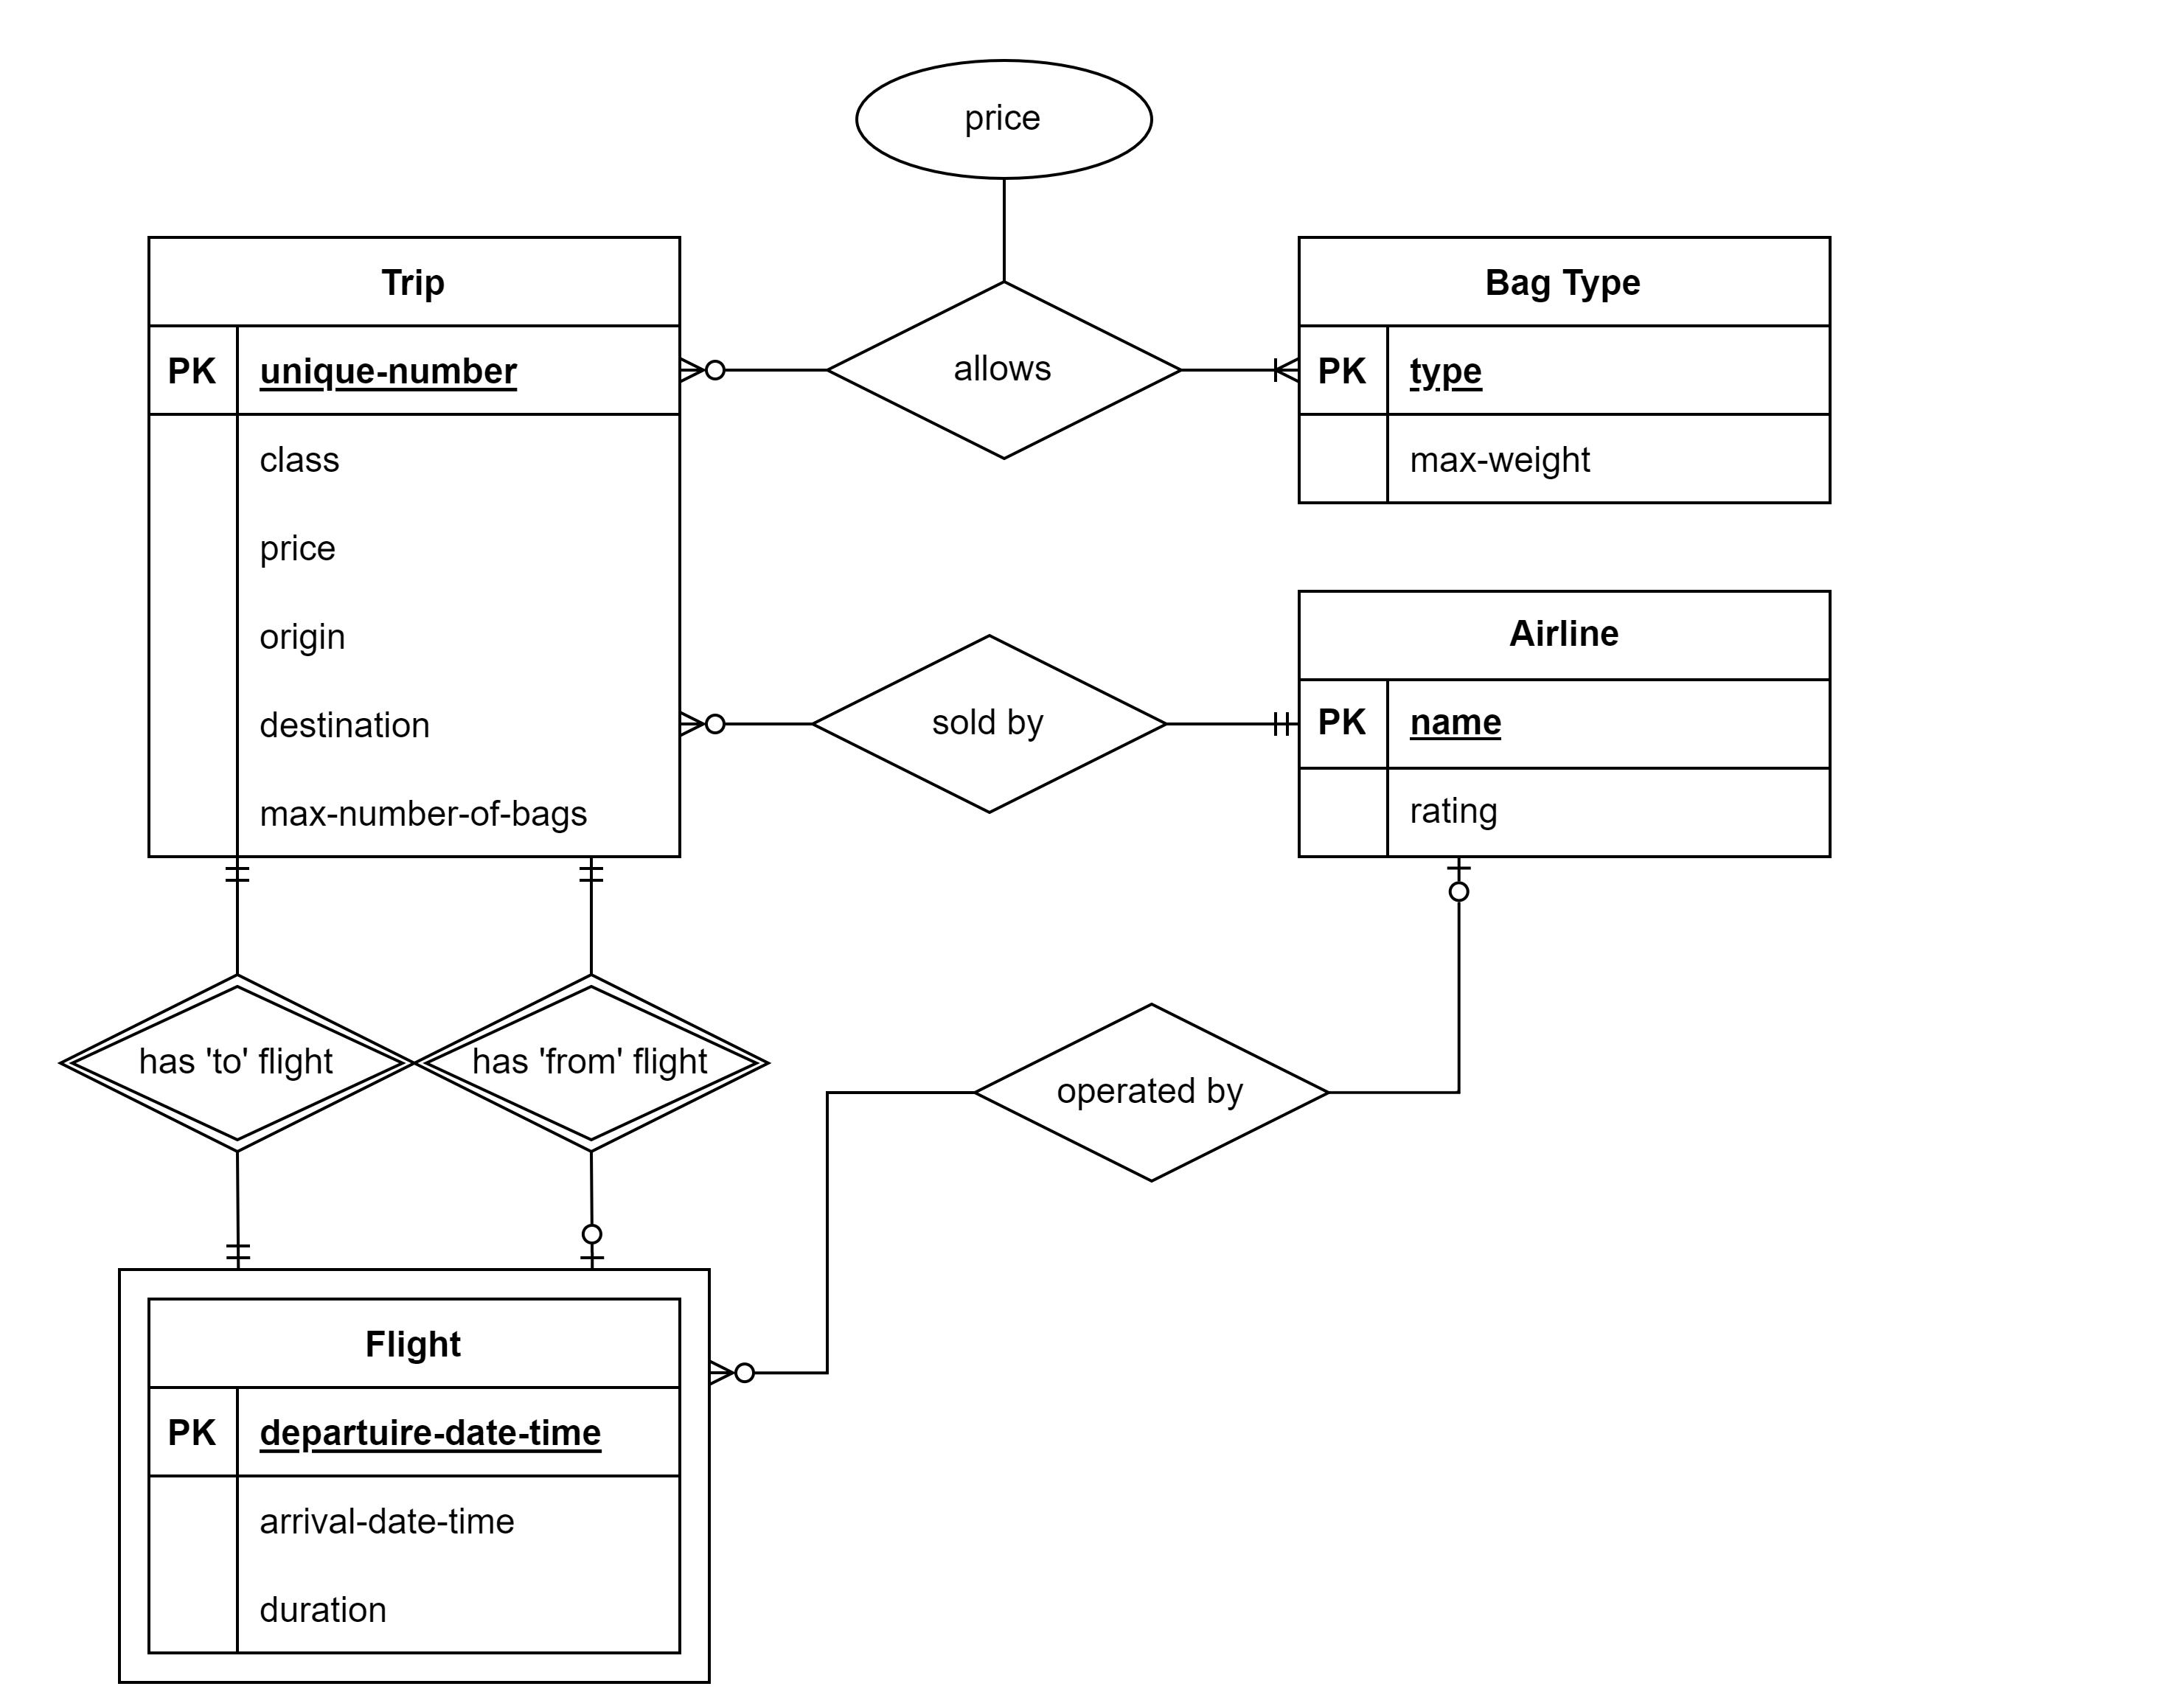attribute: (851, 57, 1152, 179)
entity: (145, 236, 684, 860), (1292, 232, 1838, 511), (1298, 583, 1835, 862)
relationship: (821, 633, 1170, 812), (833, 282, 1179, 463), (979, 1002, 1321, 1185)
weakentity: (115, 1264, 716, 1694)
weakrelationship: (57, 979, 413, 1153), (413, 981, 769, 1149)
